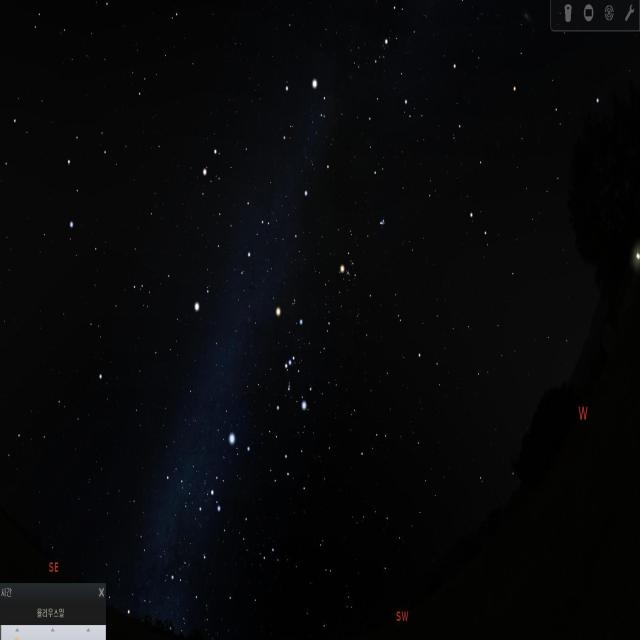canis_major: (206, 430, 255, 522)
canis_minor: (188, 283, 214, 322)
gemini: (196, 141, 268, 265)
orion: (269, 300, 313, 423)
pleiades: (376, 212, 390, 236)
taurus: (332, 206, 393, 311)
